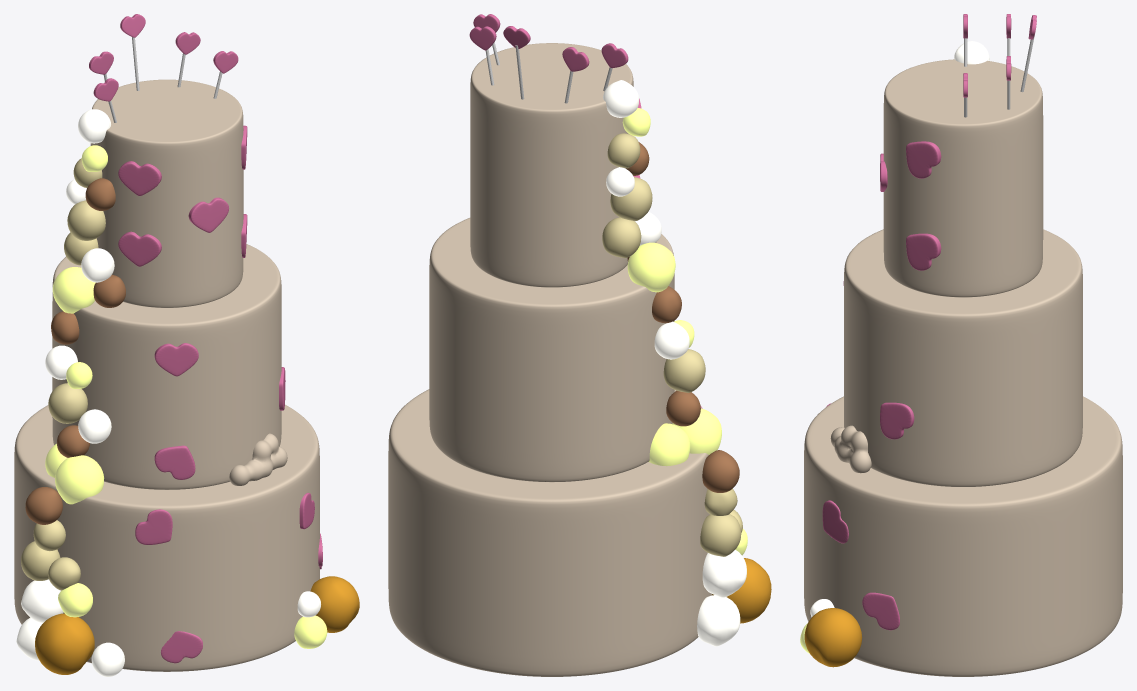
Rendered from Cake_Layer_3_Cream_Topper1_Hearts_NoDrip.glb.
The picture shows the model from 3 angles, left to right: view 1: azimuth 30°, elevation 25°; view 2: azimuth 150°, elevation 25°; view 3: azimuth 270°, elevation 25°; orthographic projection. The views are drawn at different scales.
Visible parts, largest first — view 1: Circle.001, Circle.002, Circle.003, Sphere, Sphere.026, Sphere.015, Sphere.028, Sphere.007, Sphere.002, Sphere.012, Sphere.032, Sphere.006 (+25 smaller); view 2: Circle.001, Circle.002, Circle.003, Sphere.007, Sphere.013, Sphere.002, Sphere, Sphere.005, Sphere.008, Sphere.012, Sphere.006, Sphere.037 (+11 smaller); view 3: Circle.001, Circle.002, Circle.003, Sphere.026, Sphere.028, Star.016, Star.012, Star.004, Star.011, Star.010, Sphere.039.
Boxes of the visible parts, x1,y1,x2,y2 form: Circle.001: (14,404,319,671); Circle.002: (52,244,281,489); Circle.003: (90,79,243,307); Sphere: (35,613,94,674); Sphere.026: (310,576,359,632); Sphere.015: (55,455,104,504); Sphere.028: (229,433,287,485); Sphere.007: (52,267,95,313); Sphere.002: (21,579,63,622); Sphere.012: (48,383,87,423); Sphere.032: (67,200,105,240); Sphere.006: (25,487,62,524); Circle.001: (388,389,711,676); Circle.002: (429,218,674,482); Circle.003: (470,43,633,287); Sphere.007: (627,242,675,292); Sphere.013: (697,595,740,646); Sphere.002: (702,550,746,597); Sphere: (712,558,771,623); Sphere.005: (700,514,741,556); Sphere.008: (648,423,690,466); Sphere.012: (663,349,705,392); Sphere.006: (702,450,739,492); Sphere.037: (602,217,641,258); Circle.001: (804,396,1122,676); Circle.002: (844,229,1082,486); Circle.003: (883,59,1043,297); Sphere.026: (804,608,862,667); Sphere.028: (830,425,871,473); Star.016: (906,141,941,178); Star.012: (906,233,941,270); Star.004: (880,402,914,439); Star.011: (862,592,899,630); Star.010: (822,500,848,543); Sphere.039: (954,41,989,64).
Size of the model in its own units: 0.2244 by 0.4156 by 0.2025.
